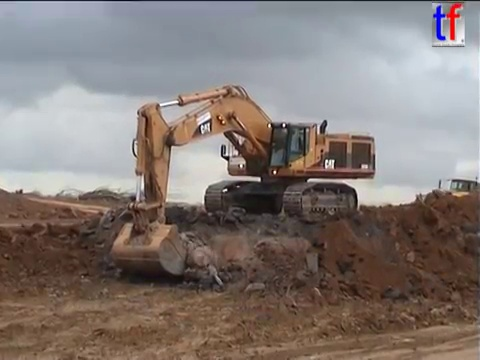excavator: (107, 81, 379, 281)
motor grader: (411, 193, 434, 211)
truck: (435, 175, 480, 213)
